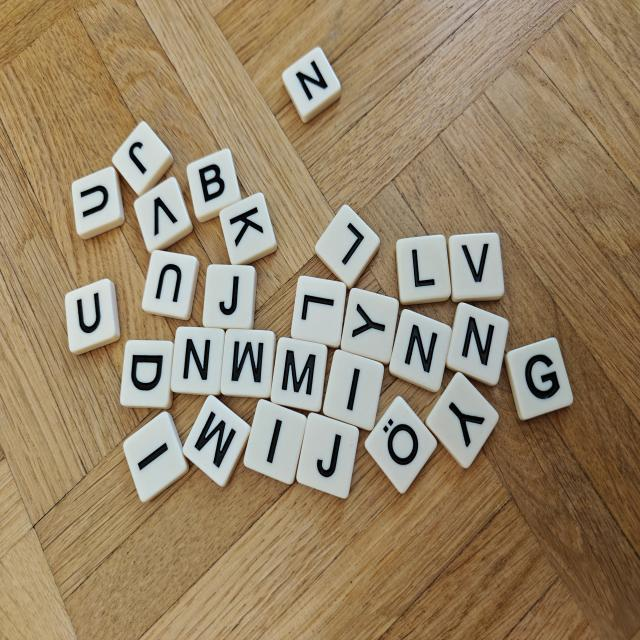b: (187, 149, 241, 222)
d: (120, 340, 174, 409)
g: (505, 338, 573, 420)
i: (124, 412, 188, 502), (244, 399, 306, 484), (323, 350, 384, 430)
j: (296, 413, 359, 498), (112, 121, 173, 196), (203, 265, 257, 329)
k: (219, 192, 277, 265)
l: (315, 205, 380, 289), (291, 276, 347, 347), (396, 235, 451, 305)
m: (183, 395, 250, 486), (271, 337, 327, 412), (221, 329, 275, 398)
n: (389, 310, 452, 391), (446, 303, 508, 385), (282, 47, 341, 123), (171, 326, 225, 395)
o_dot: (365, 396, 437, 493)
u: (65, 279, 120, 354), (142, 250, 199, 320), (72, 167, 124, 239)
v: (134, 177, 192, 252), (448, 232, 504, 302)
y: (426, 372, 498, 468), (340, 288, 399, 364)
